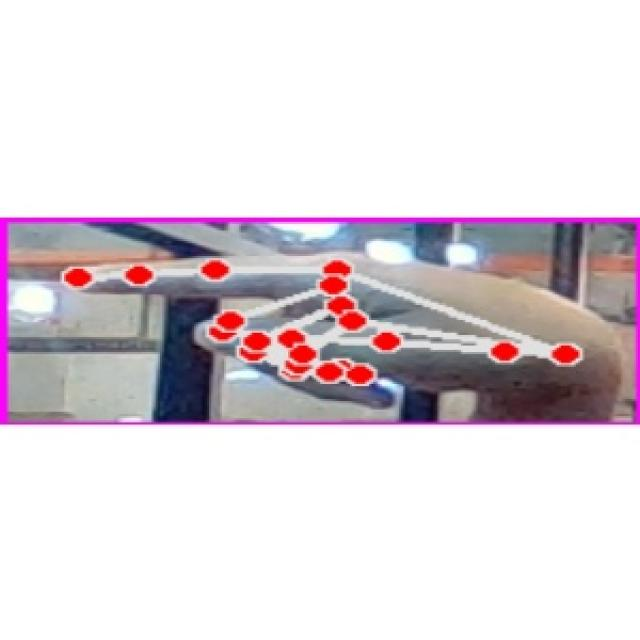G: (58, 239, 610, 412)
